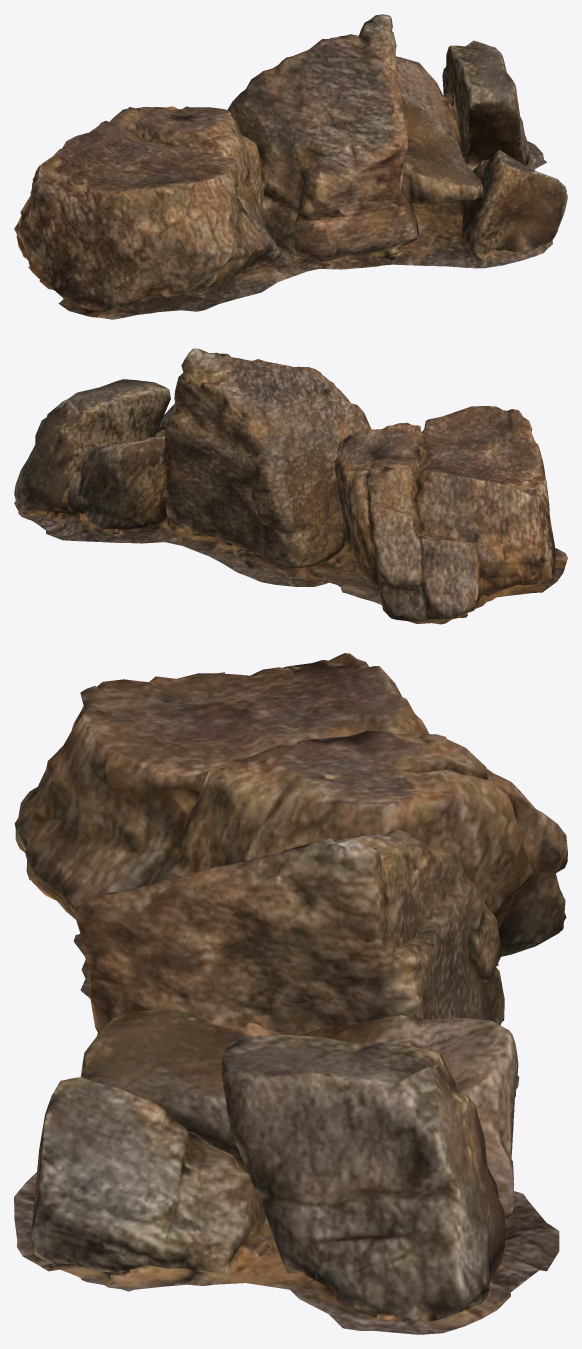
File: namaqualand_boulder_02.glb
The picture shows the model from 3 angles, top to bottom: view 1: azimuth 30°, elevation 25°; view 2: azimuth 150°, elevation 25°; view 3: azimuth 270°, elevation 25°; orthographic projection. The views are drawn at different scales.
Visible parts, largest first — view 1: boulder_02; view 2: boulder_02; view 3: boulder_02.
Boxes of the visible parts, <box> form: boulder_02: <box>14,14,567,319</box>; boulder_02: <box>14,348,567,624</box>; boulder_02: <box>14,653,567,1334</box>.
Bounding box in the file's own units: 2.53 × 0.8804 × 1.23.
1 material, 1 textured.
